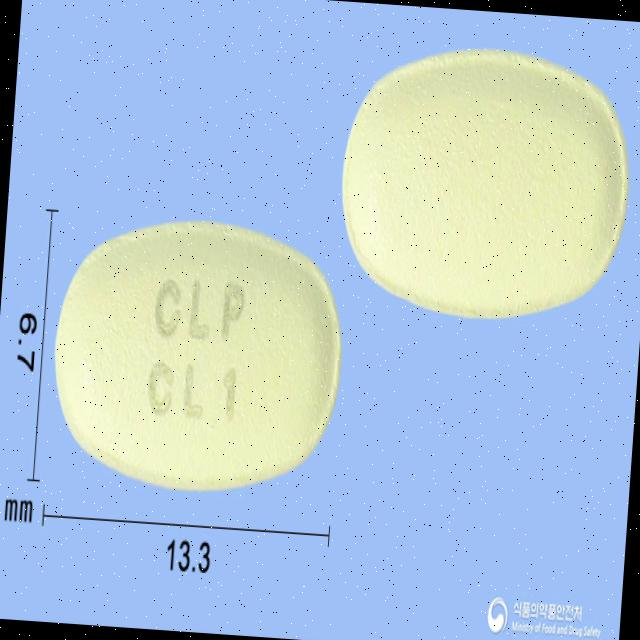Celltrion Clarithromycin - 500mg: (329, 33, 640, 335), (43, 206, 351, 506)
